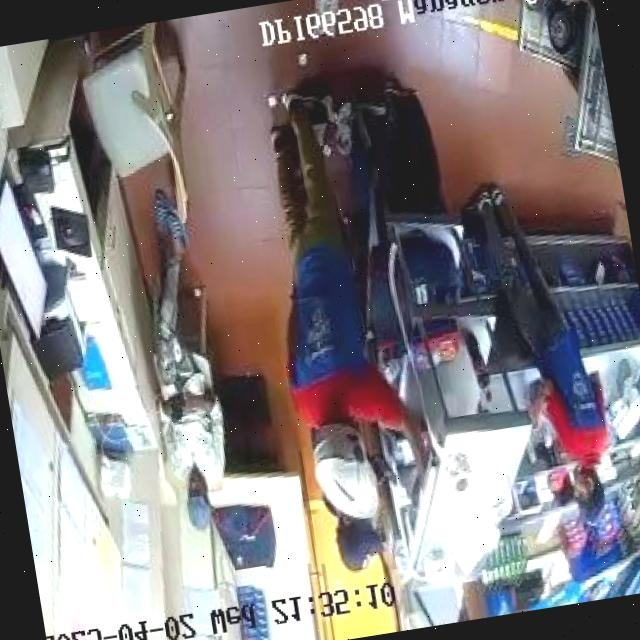helmet: (309, 420, 379, 519)
no_helmet: (578, 468, 606, 523), (187, 470, 211, 532)
